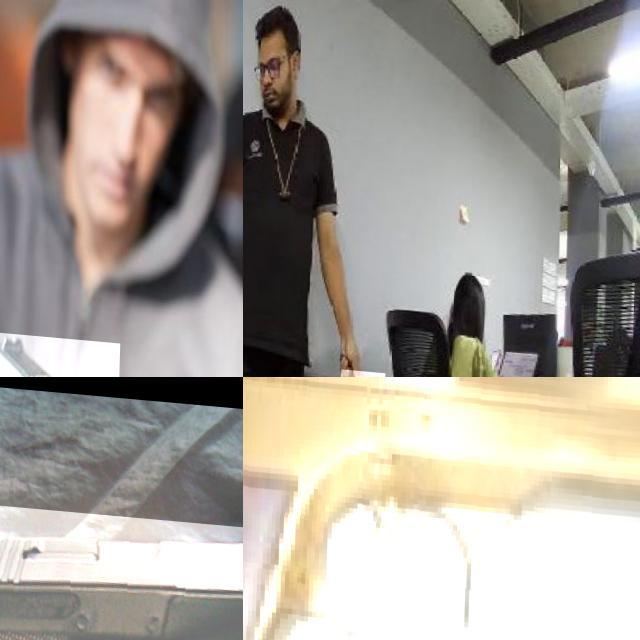-: (343, 363, 388, 377)
gun-knife-thesis - v11 Yolov5 augmented: (243, 377, 640, 640), (0, 495, 243, 640), (0, 330, 122, 377)
